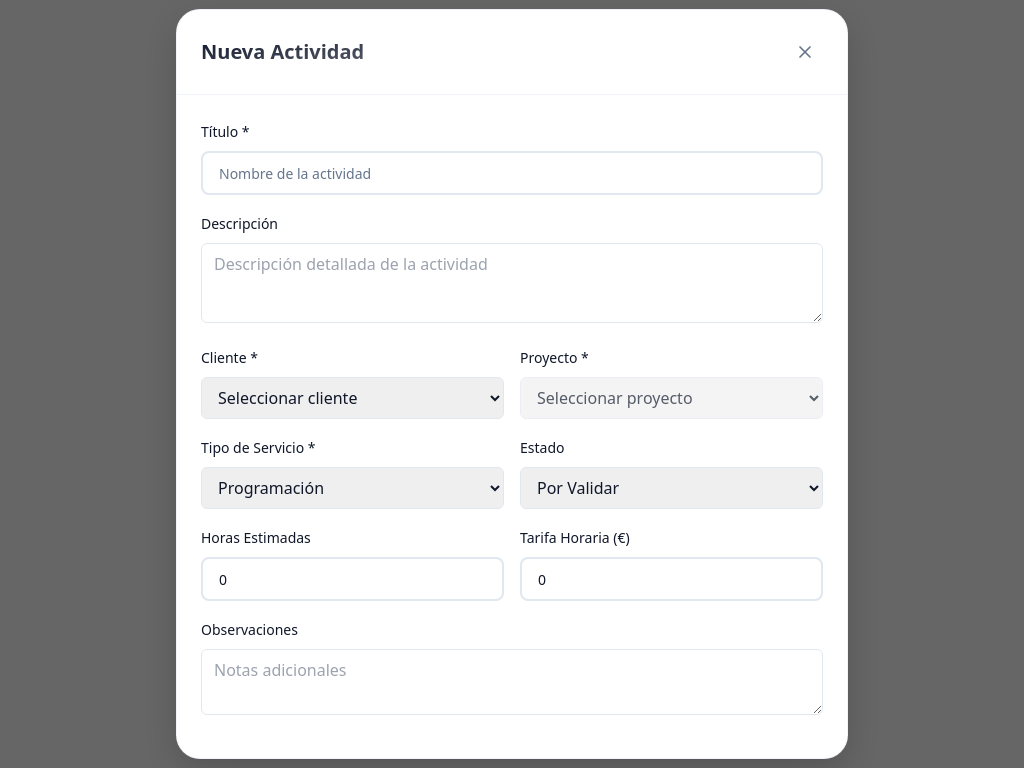
Test: ActivityForm › filters projects by selected client
Select "Cliente Dos" in the dropdown labelled "Cliente *" at point(352, 398), box [201,377,504,419]
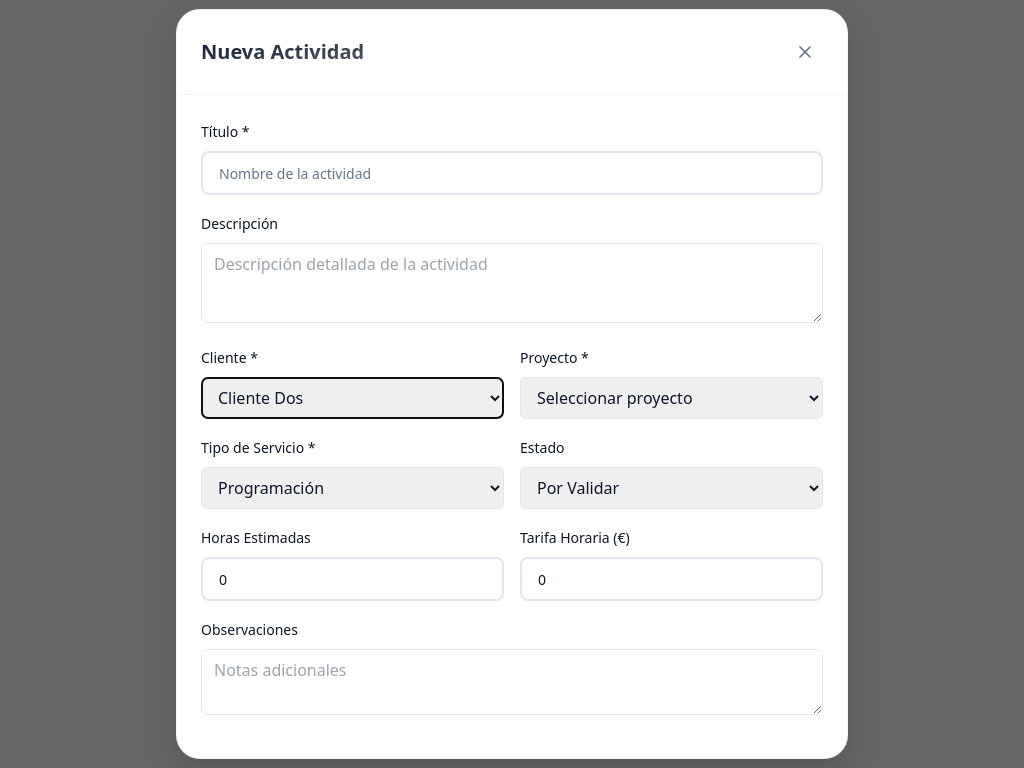
expect the dropdown labelled "Proyecto *" is enabled: met, box [520,377,823,419]
